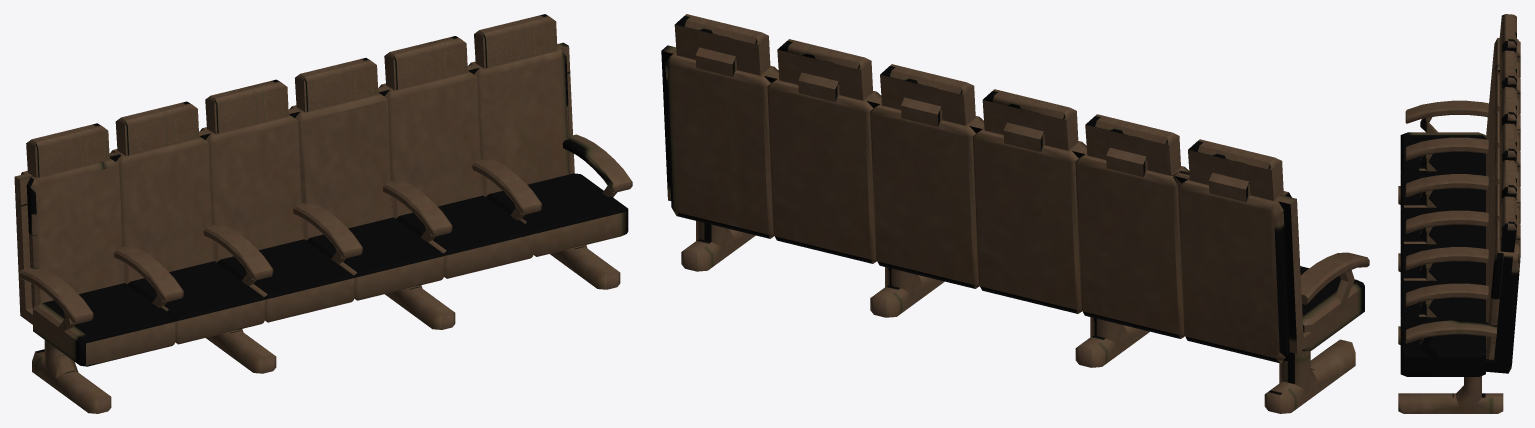
The model's file is LobbyChairs.fbx.
The picture shows the model from 3 angles, left to right: view 1: azimuth 30°, elevation 25°; view 2: azimuth 150°, elevation 25°; view 3: azimuth 270°, elevation 25°; orthographic projection. The views are drawn at different scales.
Parts seen in each view (by area): view 1: Lobby_Chairs; view 2: Lobby_Chairs; view 3: Lobby_Chairs.
Part boxes in pixels (x1=…): Lobby_Chairs: x1=14, y1=14, x2=632, y2=413; Lobby_Chairs: x1=661, y1=14, x2=1369, y2=413; Lobby_Chairs: x1=1398, y1=14, x2=1520, y2=413.
Bounding box in the file's own units: 276 × 105 × 62.41.
1 material, 1 textured.
